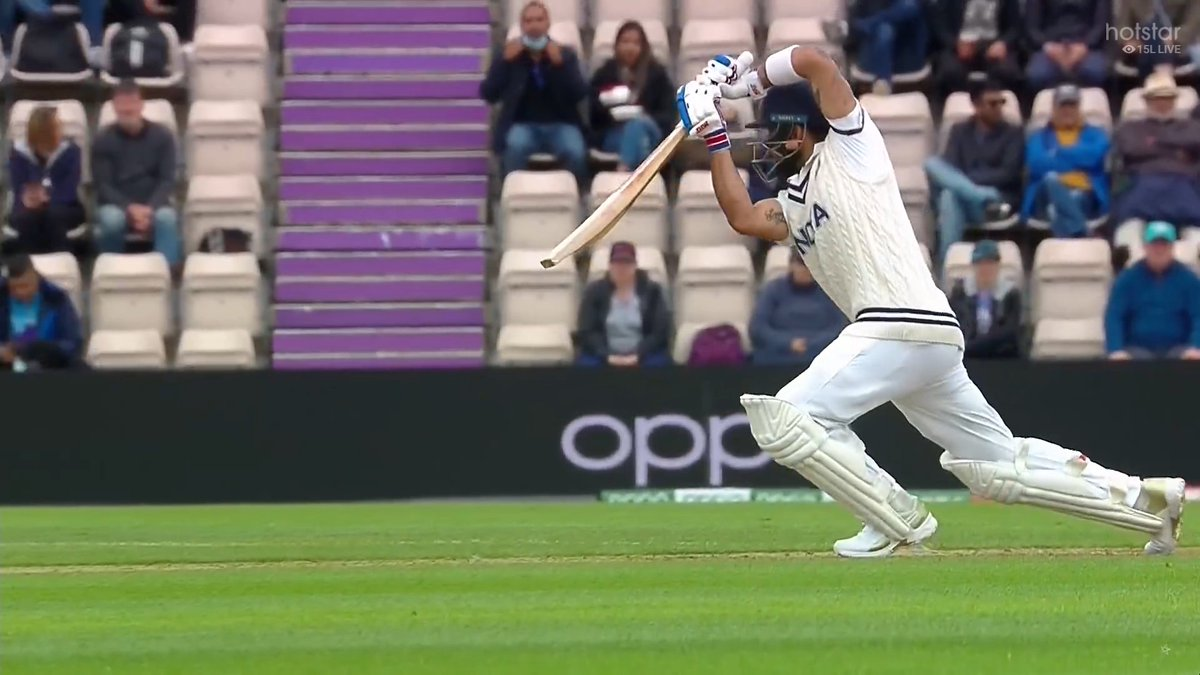Defence: (456, 0, 1200, 673)
